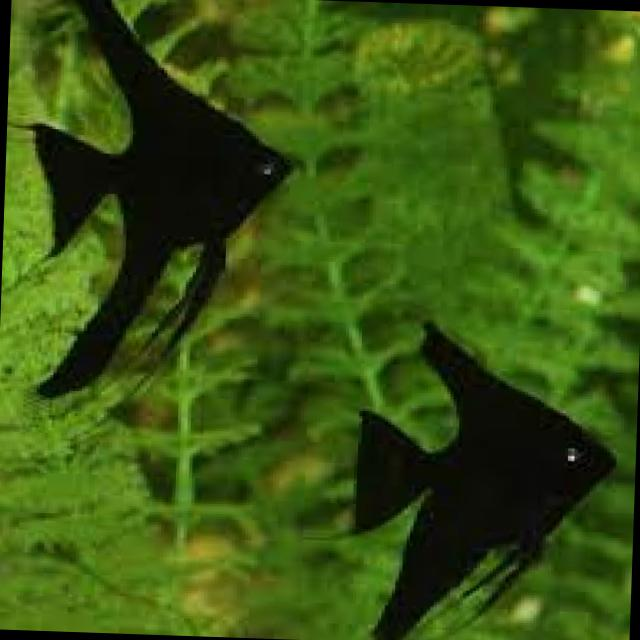AngelFish: (17, 0, 299, 401), (354, 313, 620, 640)
